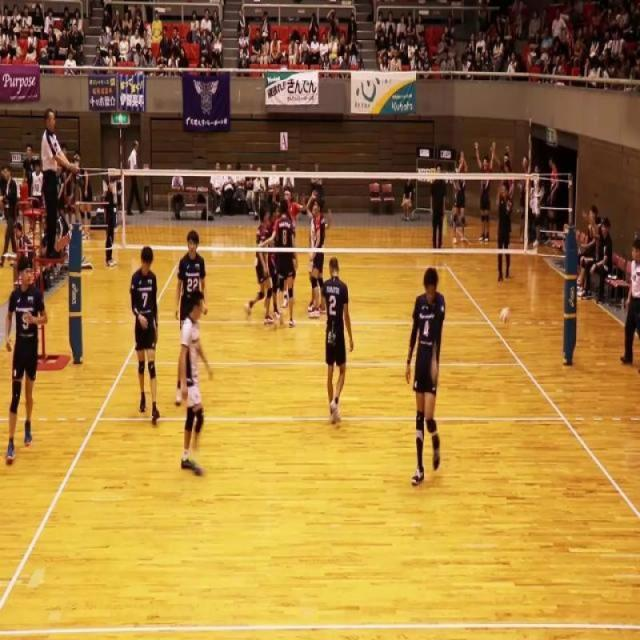volleyball: (500, 306, 510, 324)
